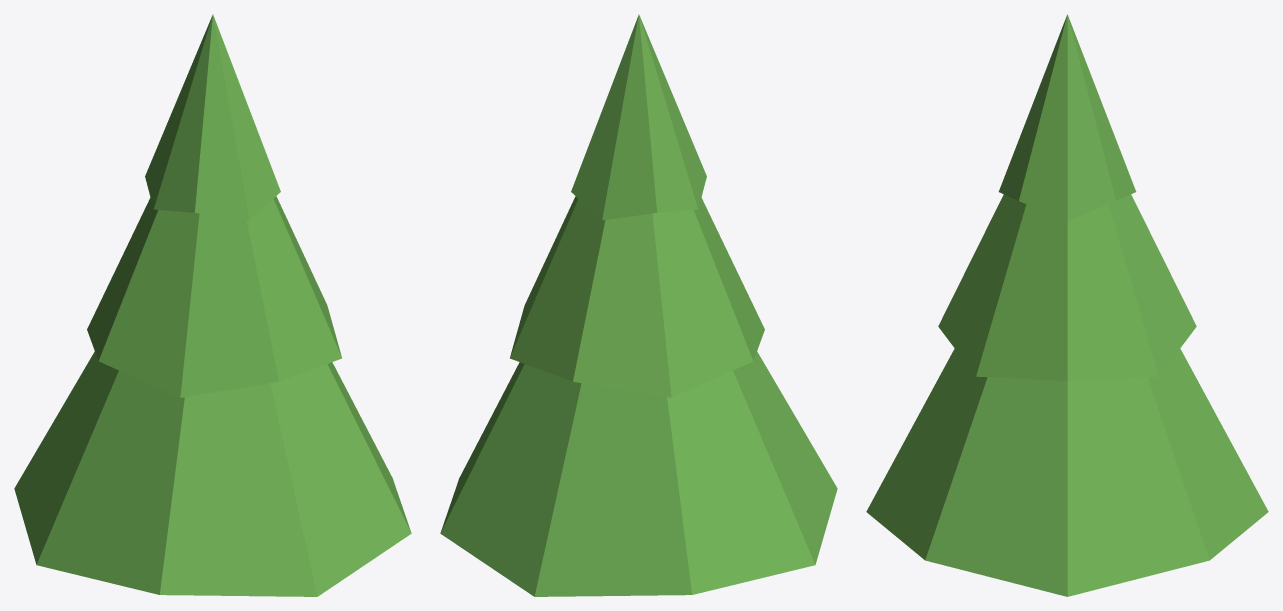
The model's file is PineTree2.fbx.
3 views of the same model, side by side, from view 1: azimuth 30°, elevation 25°; view 2: azimuth 150°, elevation 25°; view 3: azimuth 270°, elevation 25° (orthographic). The views are drawn at different scales.
Parts seen in each view (by area): view 1: Cylinder; view 2: Cylinder; view 3: Cylinder.
Boxes of the visible parts, left/top/right/bottom form: Cylinder: left=14, top=14, right=411, bottom=596; Cylinder: left=440, top=14, right=837, bottom=596; Cylinder: left=866, top=14, right=1268, bottom=596.
Bounding box in the file's own units: 600 × 818 × 600.
1 material, 1 textured.
